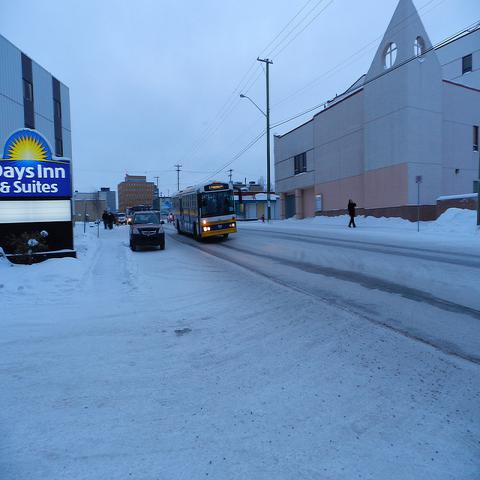bus: (172, 180, 237, 245)
car: (128, 211, 166, 251), (116, 213, 127, 225), (167, 212, 173, 223)
